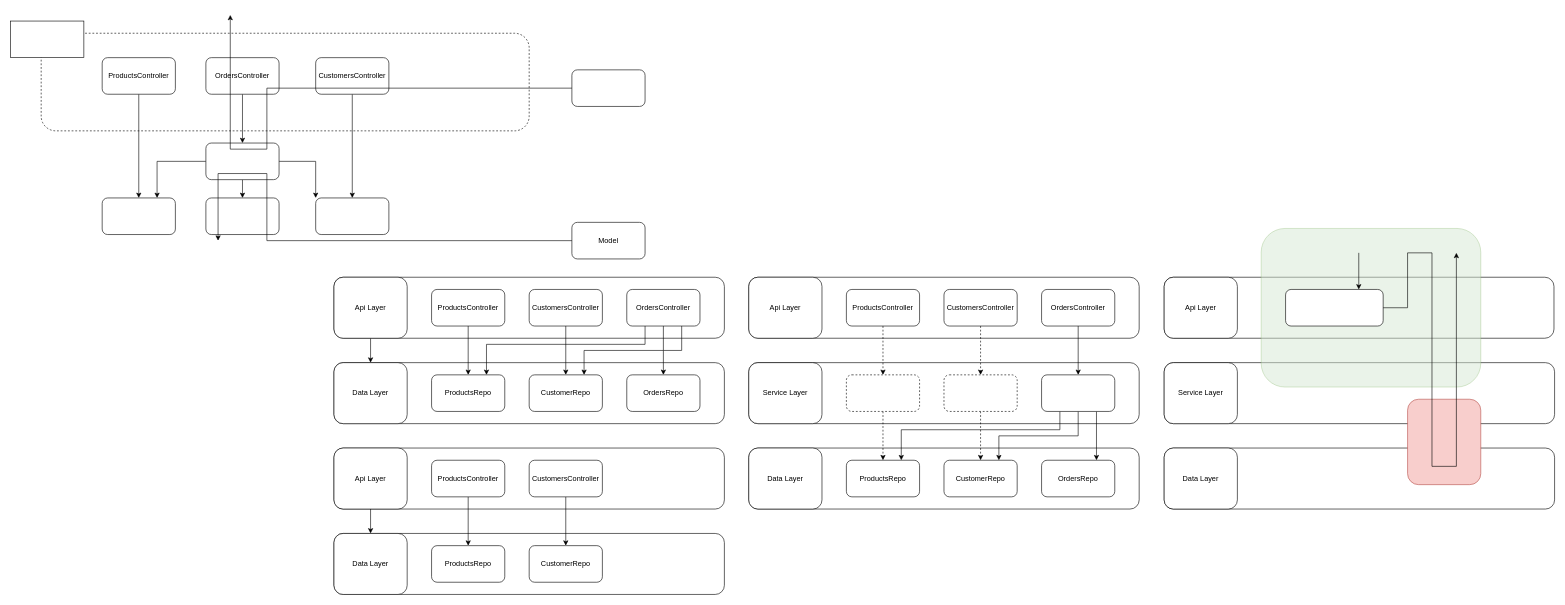
The diagram is 1565 pixels wide and 605 high, and some of its shapes have lost their labels. The shapes that lost their labels are listed below. From the top down, each one's box as (x1, y1, x2, y2) in pixels, then its label:
(10, 20, 84, 58): API
(571, 69, 645, 106): Contracts
(205, 142, 279, 180): OrdersService
(102, 197, 175, 235): ProductsRepository
(205, 197, 279, 235): OrdersRepository
(315, 197, 389, 235): CustomersRepository
(1285, 289, 1383, 326): Api.Contracts
(846, 374, 920, 411): ProductService
(943, 374, 1017, 411): CustomerService
(1041, 374, 1115, 411): OrderService
